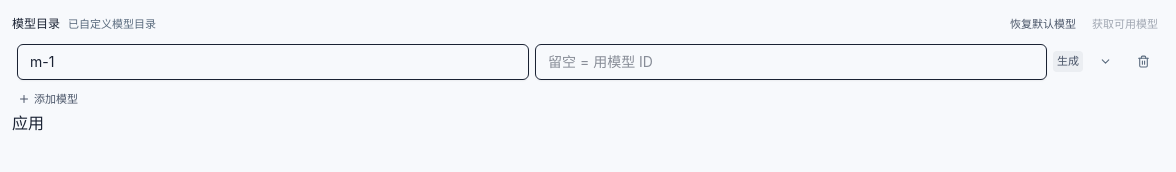
Test: 空目录文案（继承态 vs 自定义态） › 自定义态删光 → 「目录为空 —— 保存后恢复默认模型目录」
The width and height of the screenshot is (1176, 172).
Click the button named "删除模型 1" at (1143, 62), box [1127, 46, 1159, 78]
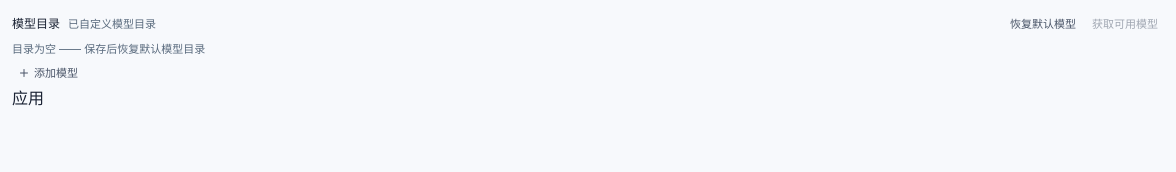
Expected: the text "目录为空 —— 保存后恢复默认模型目录" is shown, [12, 42, 205, 56]
